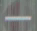No entry: (3, 1, 33, 30)
